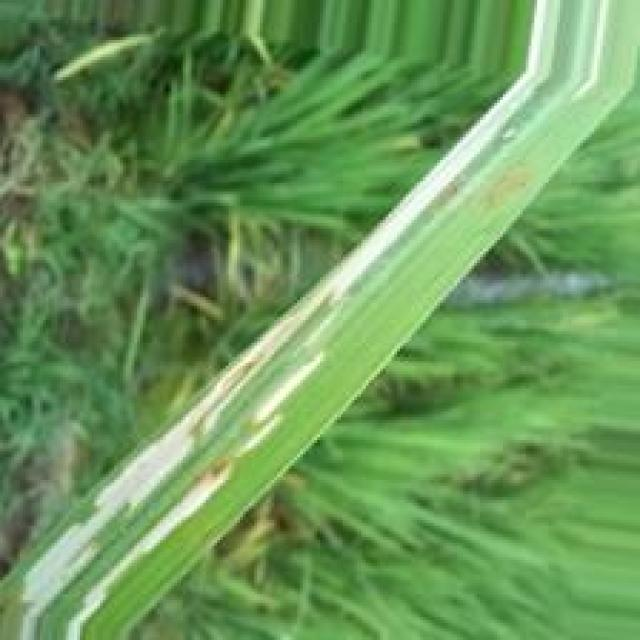Rice_Hispa: (14, 0, 563, 640), (62, 459, 237, 639), (255, 348, 324, 420)
